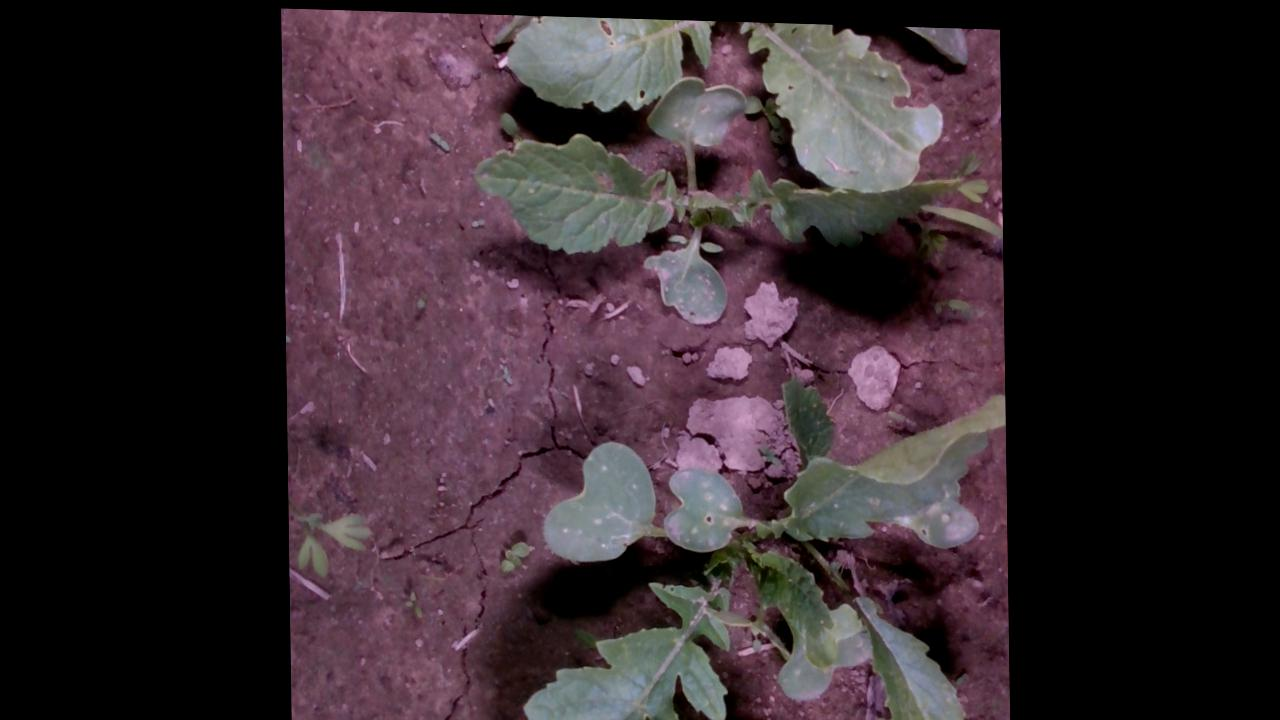weed: (496, 536, 530, 570), (400, 583, 422, 616)
